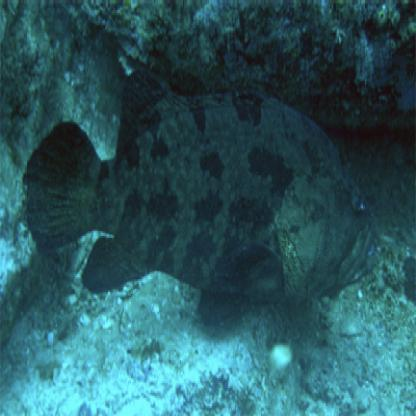grouper: (23, 61, 385, 335)
